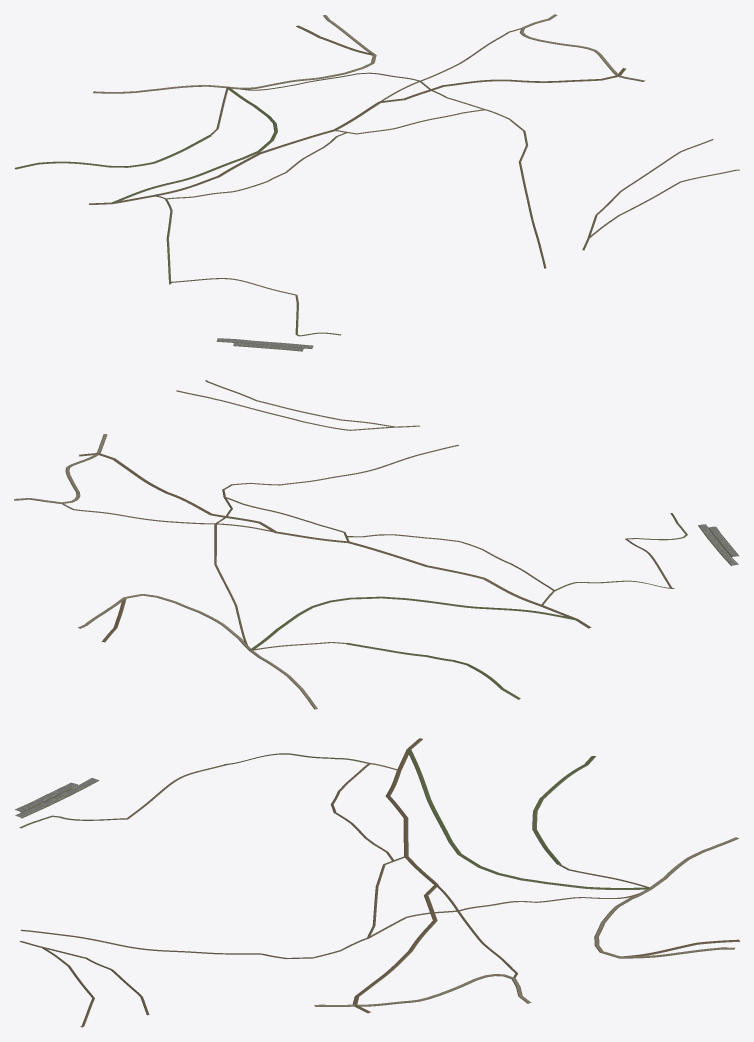
3 renders of one model, top to bottom at view 1: azimuth 30°, elevation 25°; view 2: azimuth 150°, elevation 25°; view 3: azimuth 270°, elevation 25°, orthographic. The views are drawn at different scales.
Parts seen in each view (by area): view 1: roads; view 2: roads; view 3: roads.
Part boxes in pixels (left/top/right/bottom): roads: left=14, top=14, right=739, bottom=351; roads: left=14, top=380, right=738, bottom=709; roads: left=15, top=738, right=739, bottom=1027.
Size of the model in its own units: 819 by 105 by 809.
